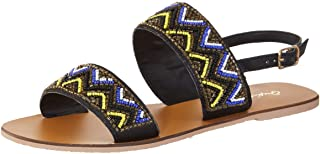shoes: (1, 1, 319, 153)
